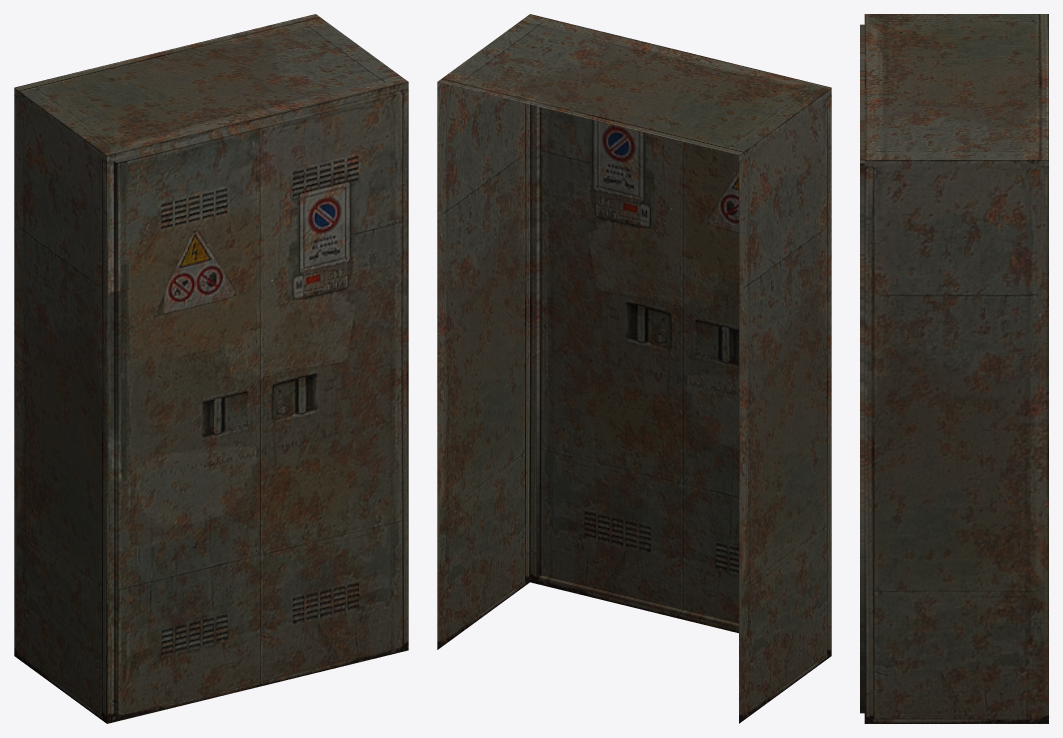
The model's file is electrical_equipment_2.obj.
3 views of the same model, side by side, from view 1: azimuth 30°, elevation 25°; view 2: azimuth 150°, elevation 25°; view 3: azimuth 270°, elevation 25° (orthographic).
Parts seen in each view (by area): view 1: electrical_equipment_2; view 2: electrical_equipment_2; view 3: electrical_equipment_2.
Boxes of the visible parts, left/top/right/bottom form: electrical_equipment_2: left=14, top=14, right=408, bottom=723; electrical_equipment_2: left=437, top=14, right=831, bottom=723; electrical_equipment_2: left=860, top=14, right=1048, bottom=723.
Bounding box in the file's own units: 1.5 × 2.7 × 0.82.
